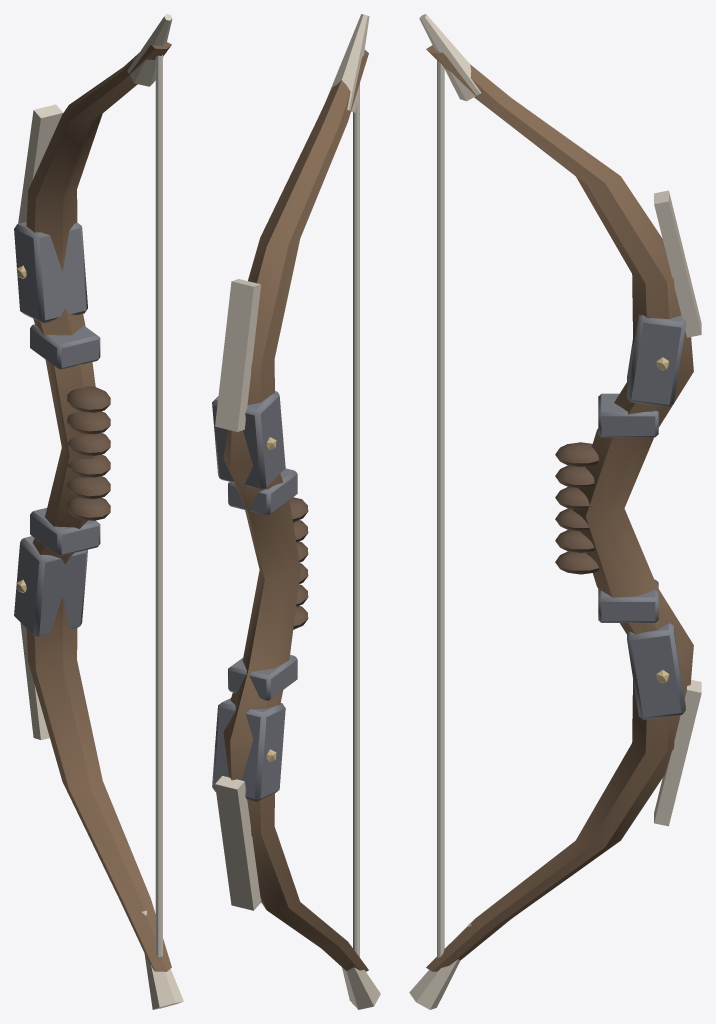
File: ranger_bow.glb
3 renders of one model, left to right at view 1: azimuth 30°, elevation 25°; view 2: azimuth 150°, elevation 25°; view 3: azimuth 270°, elevation 25°, orthographic.
Parts seen in each view (by area): view 1: SM_Weapon_Shadowbow_A; view 2: SM_Weapon_Shadowbow_A; view 3: SM_Weapon_Shadowbow_A.
Part boxes in pixels (x1=…): SM_Weapon_Shadowbow_A: x1=14, y1=14, x2=183, y2=1009; SM_Weapon_Shadowbow_A: x1=212, y1=14, x2=380, y2=1009; SM_Weapon_Shadowbow_A: x1=409, y1=14, x2=701, y2=1009.
Bounding box in the file's own units: 0.0645 × 1.02 × 0.2714.
